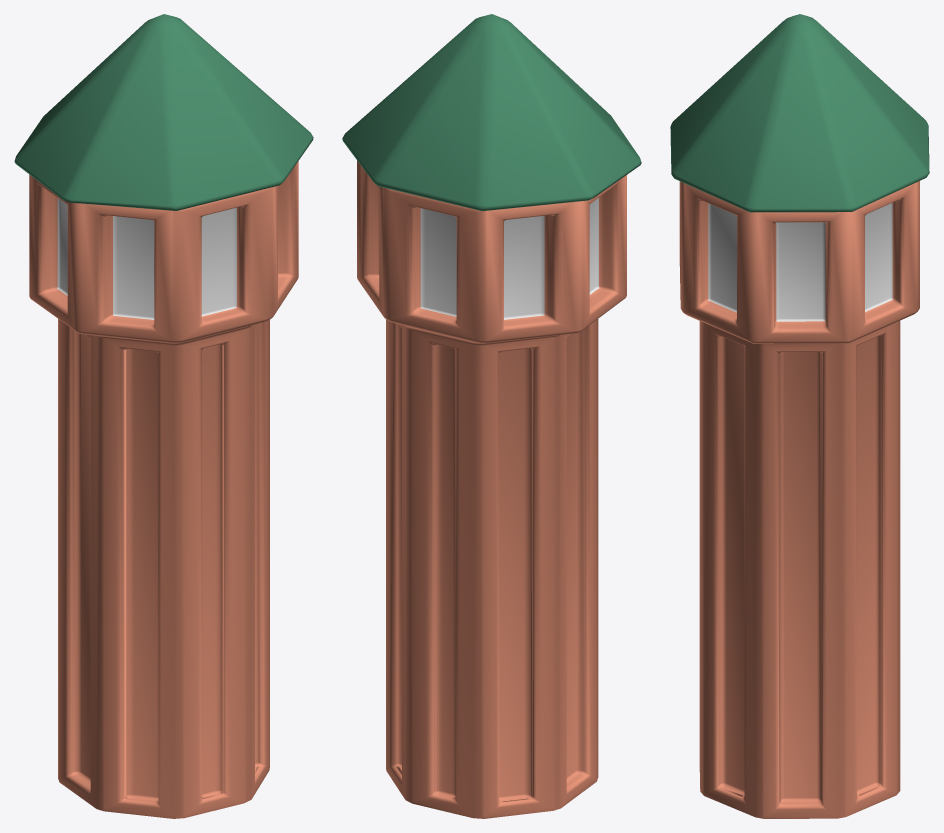
The model's file is Torre2.fbx.
3 views of the same model, side by side, from view 1: azimuth 30°, elevation 25°; view 2: azimuth 150°, elevation 25°; view 3: azimuth 270°, elevation 25° (orthographic).
Parts seen in each view (by area): view 1: Torre gruesa; view 2: Torre gruesa; view 3: Torre gruesa.
Part boxes in pixels (x1,y1,x2,y2): Torre gruesa: [14, 14, 313, 818]; Torre gruesa: [342, 14, 641, 818]; Torre gruesa: [670, 14, 929, 818].
Bounding box in the file's own units: 123 × 399 × 138.
